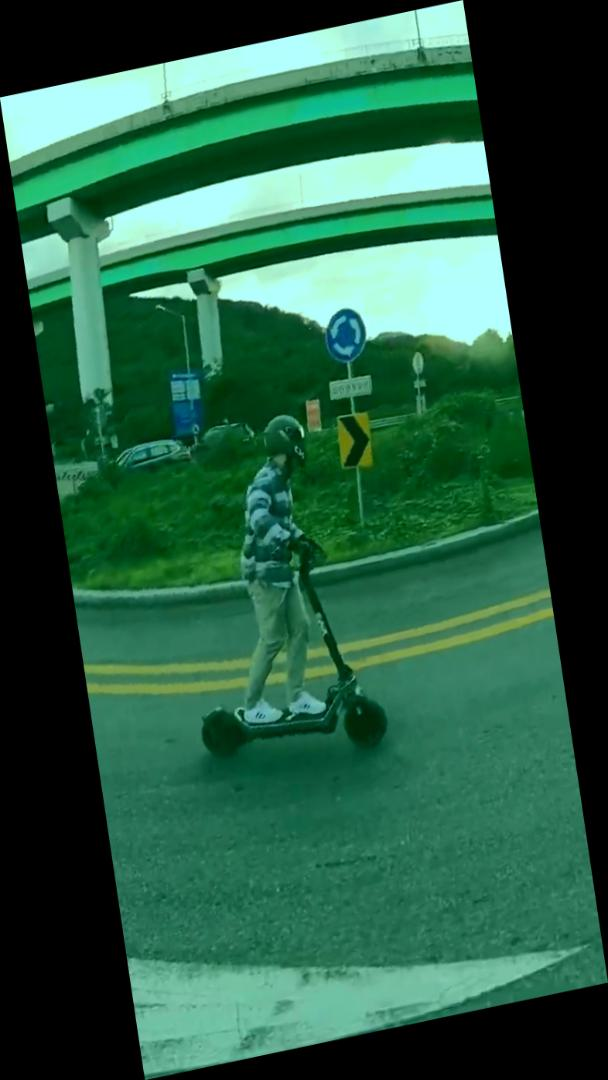helmet: (156, 399, 396, 787)
